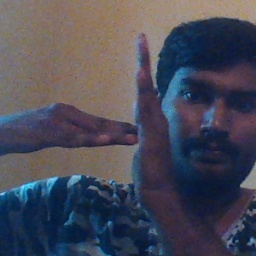Z: (54, 23, 176, 193)
